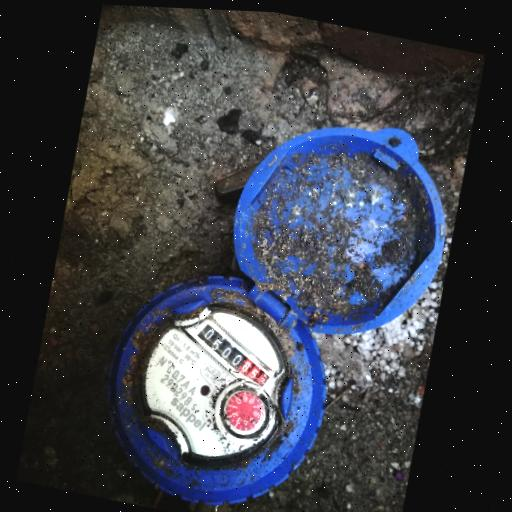0: (216, 339, 238, 363), (227, 348, 247, 371), (199, 323, 219, 345)
3: (255, 369, 271, 388)
5: (207, 332, 227, 354), (245, 364, 264, 385)
8: (235, 356, 256, 378)
border_water_meter_number: (172, 308, 298, 408)
